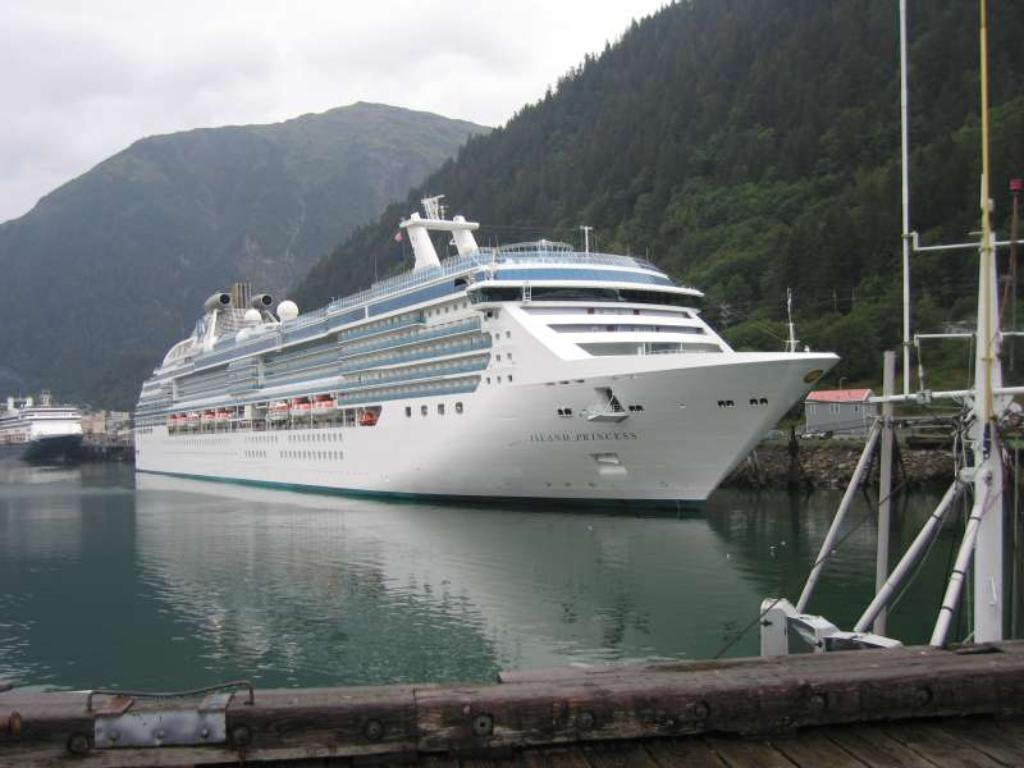PassengerShip: (122, 195, 836, 503), (0, 384, 90, 468)
